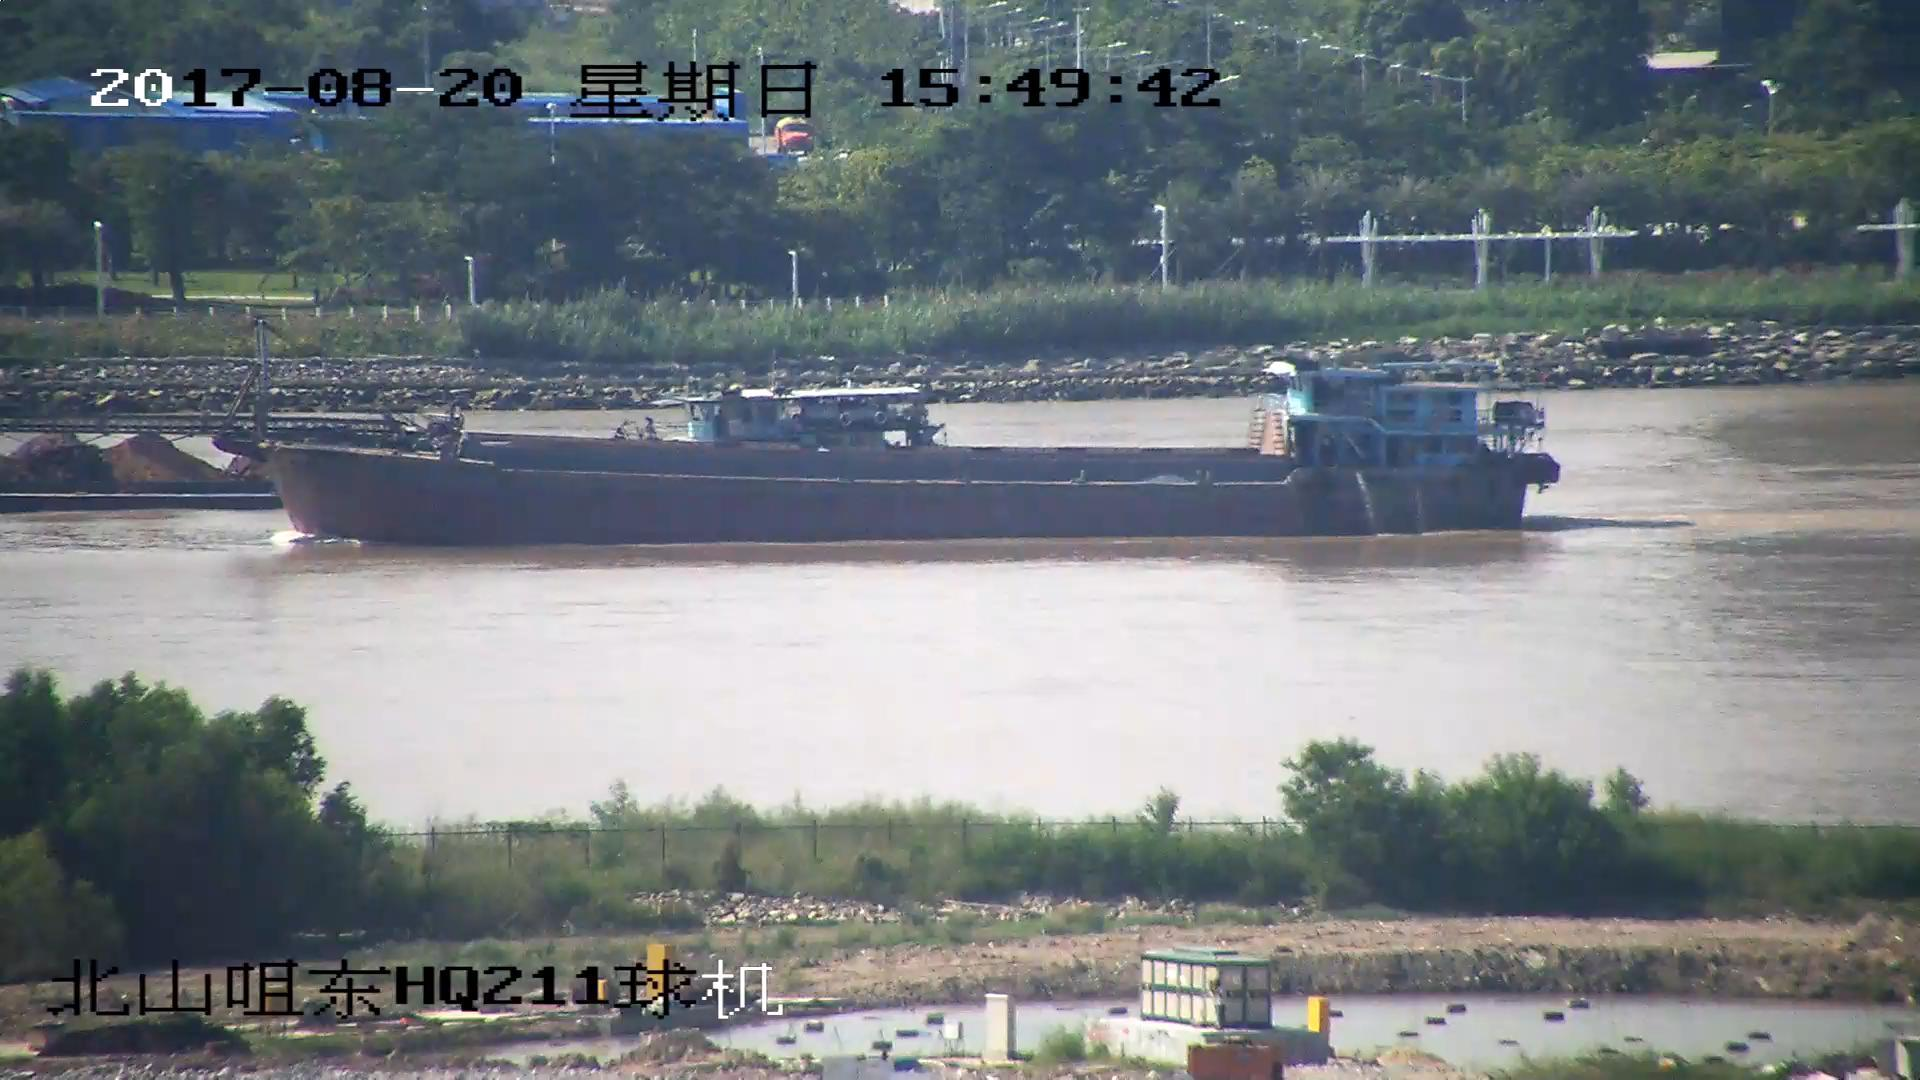Ship: (3, 347, 1542, 553), (3, 381, 938, 509)
